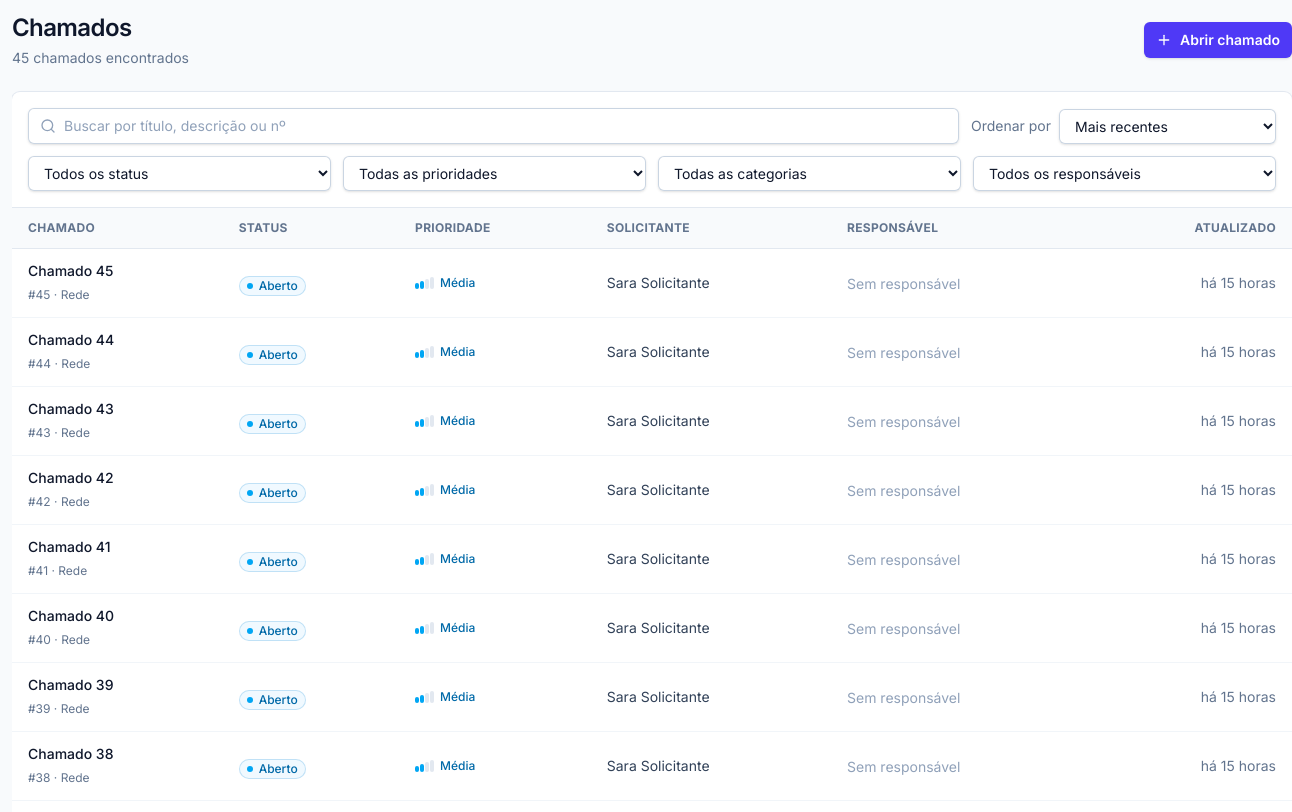
Test: TicketListPage › busca com atraso (uma requisição, não uma por tecla)
The width and height of the screenshot is (1292, 812).
In the search field named "Buscar chamados": (493, 126) [28,108,959,144], type "Chamado 4"
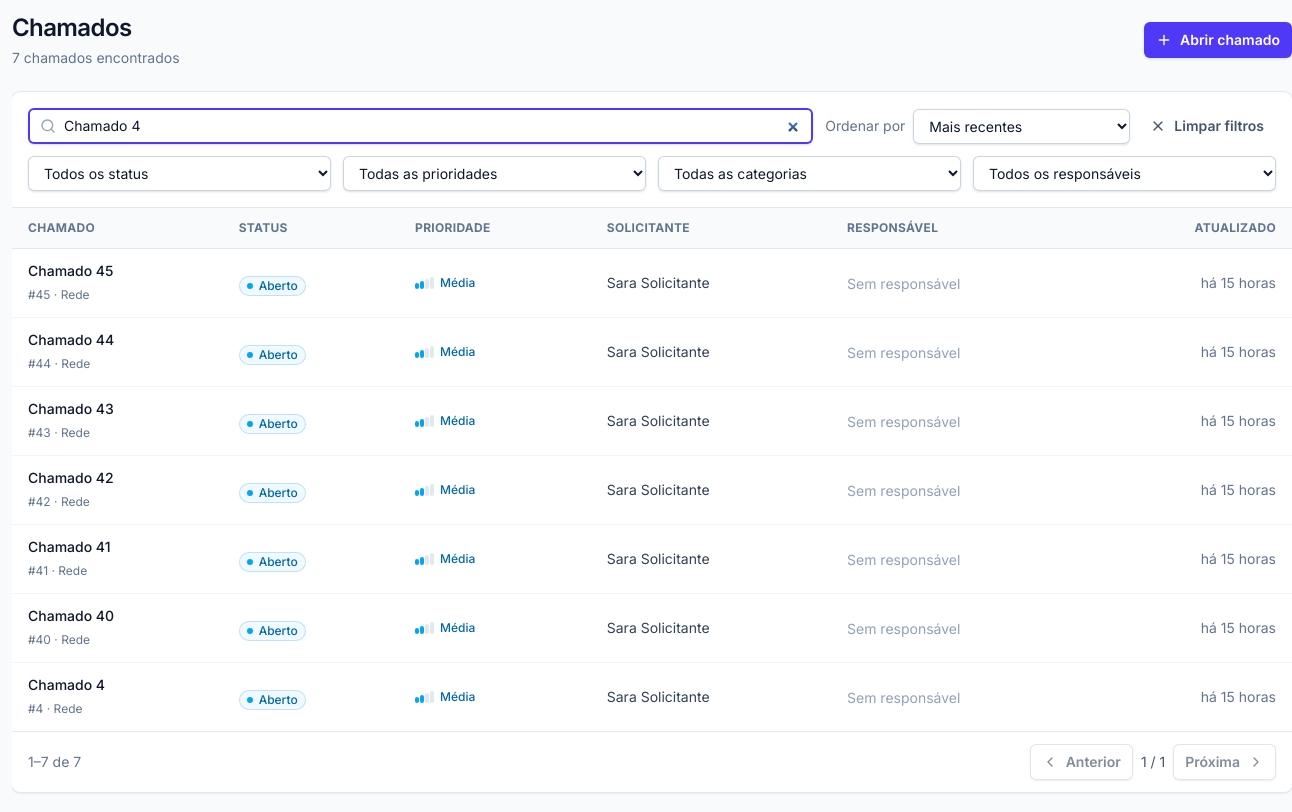
Check: the text "1–7 de 7" is shown, box [28,752,81,772]
